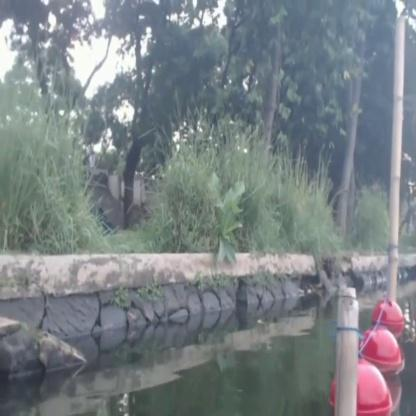red_buoy: (338, 363, 390, 407), (362, 327, 400, 372), (374, 298, 402, 331)
